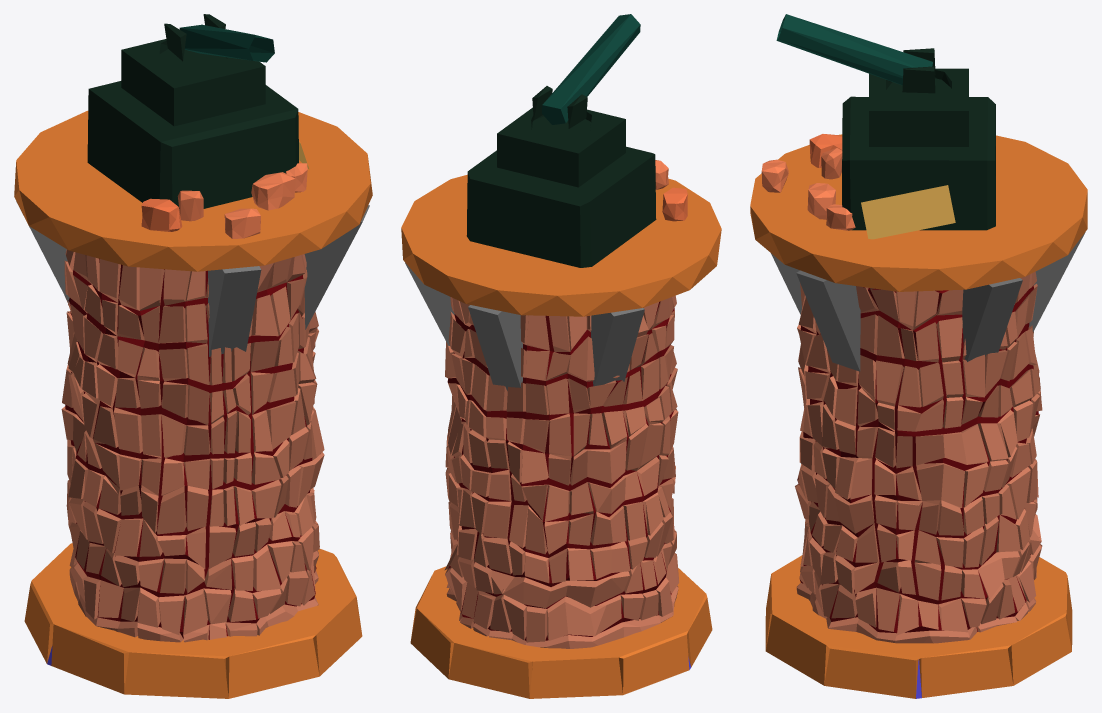
Rendered from torreofensiva.fbx.
The picture shows the model from 3 angles, left to right: view 1: azimuth 30°, elevation 25°; view 2: azimuth 150°, elevation 25°; view 3: azimuth 270°, elevation 25°; orthographic projection. The views are drawn at different scales.
Visible parts, largest first — view 1: Cube.028; view 2: Cube.028; view 3: Cube.028.
Boxes of the visible parts, x1,y1,x2,y2 form: Cube.028: (14,14,372,698); Cube.028: (401,14,721,698); Cube.028: (750,14,1087,698).
Size of the model in its own units: 80.27 by 80.27 by 161.
